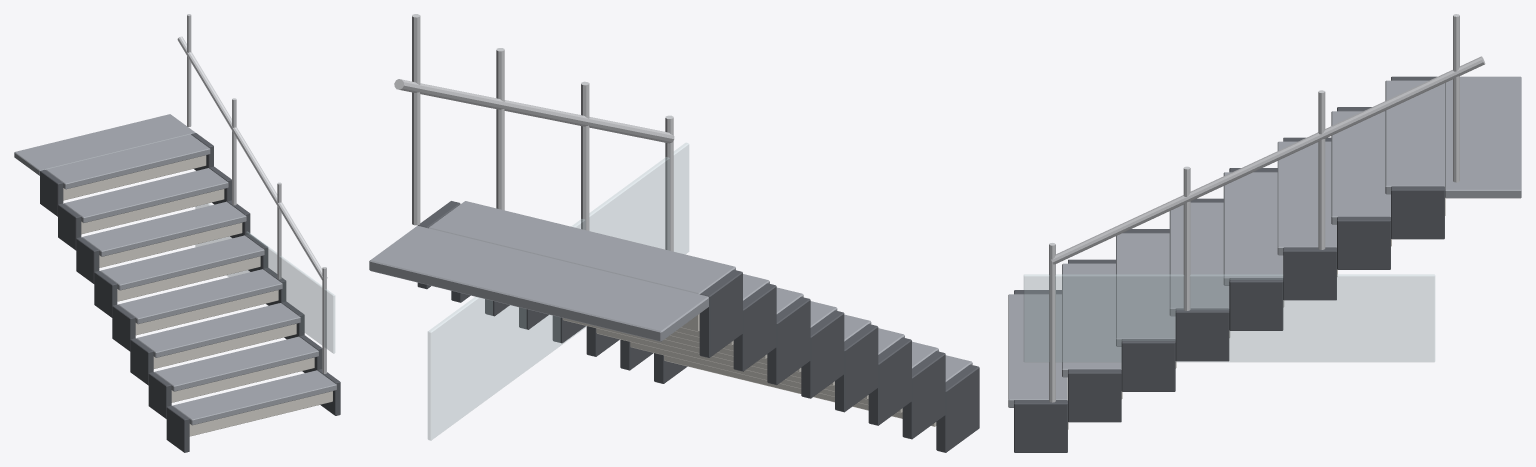
The model's file is university-lecture-hall-and-campus-stair-flight-76d8e585__34778.glb.
The picture shows the model from 3 angles, left to right: view 1: azimuth 30°, elevation 25°; view 2: azimuth 150°, elevation 25°; view 3: azimuth 270°, elevation 25°; orthographic projection. The views are drawn at different scales.
Visible parts, largest first — view 1: stair-flight; view 2: stair-flight; view 3: stair-flight.
Part boxes in pixels (x1,y1,x2,y2): stair-flight: (14, 14, 340, 452); stair-flight: (369, 14, 979, 452); stair-flight: (1008, 14, 1521, 452).
Size of the model in its own units: 1.4 by 2.5 by 2.67.
